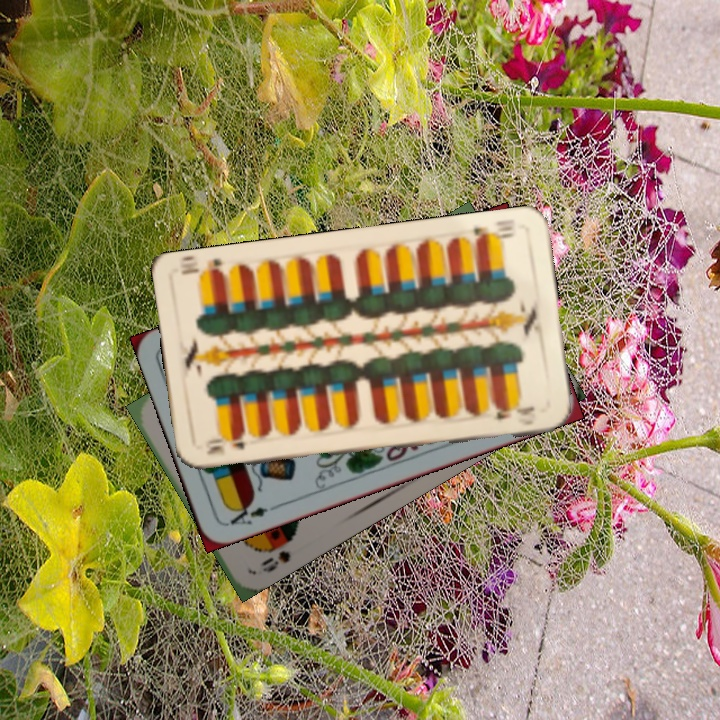E10: (469, 215, 518, 246), (202, 437, 247, 458)
EA: (226, 498, 271, 528)
SO: (257, 546, 293, 576)
